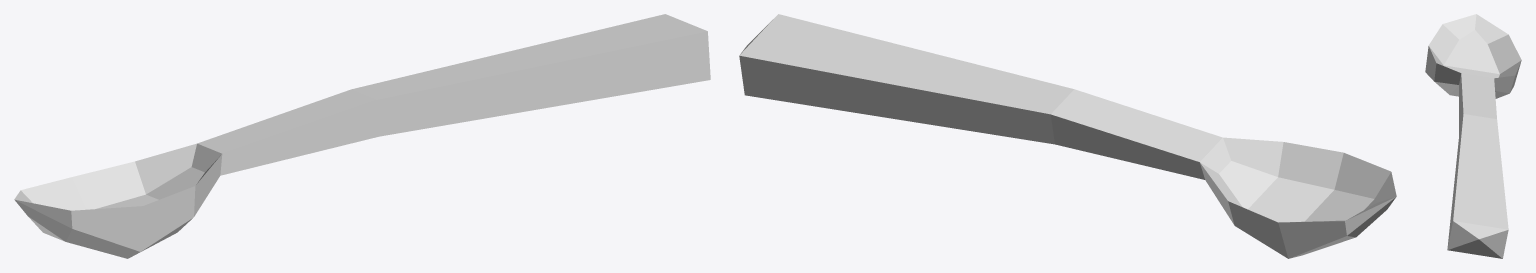
File: PT_Spoon_01.fbx
The picture shows the model from 3 angles, left to right: view 1: azimuth 30°, elevation 25°; view 2: azimuth 150°, elevation 25°; view 3: azimuth 270°, elevation 25°; orthographic projection. The views are drawn at different scales.
Parts seen in each view (by area): view 1: PT_Spoon_01; view 2: PT_Spoon_01; view 3: PT_Spoon_01.
Part boxes in pixels (x1,y1,x2,y2): PT_Spoon_01: (14,14,710,258); PT_Spoon_01: (739,14,1396,258); PT_Spoon_01: (1425,14,1521,258).
Bounding box in the file's own units: 26.2 × 3.46 × 4.81.
Materials: 1 (1 with a texture image).
